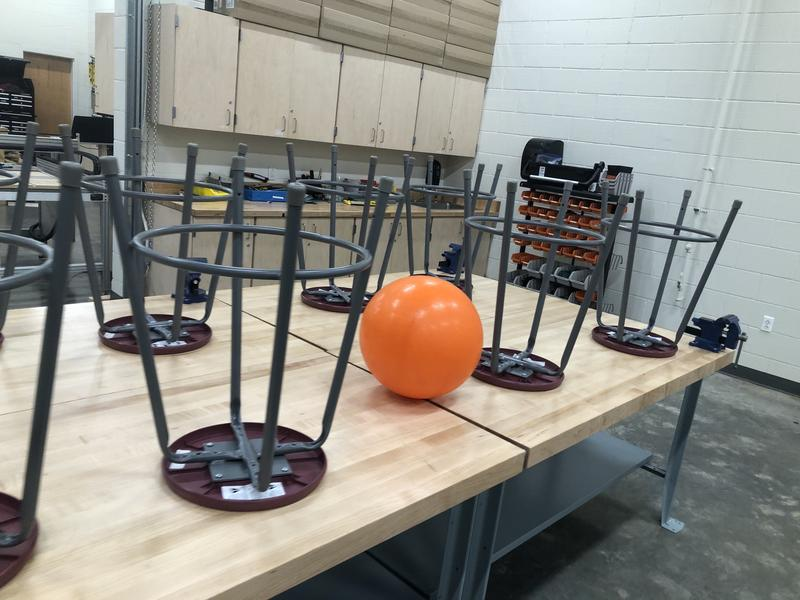ball: (359, 274, 484, 401)
